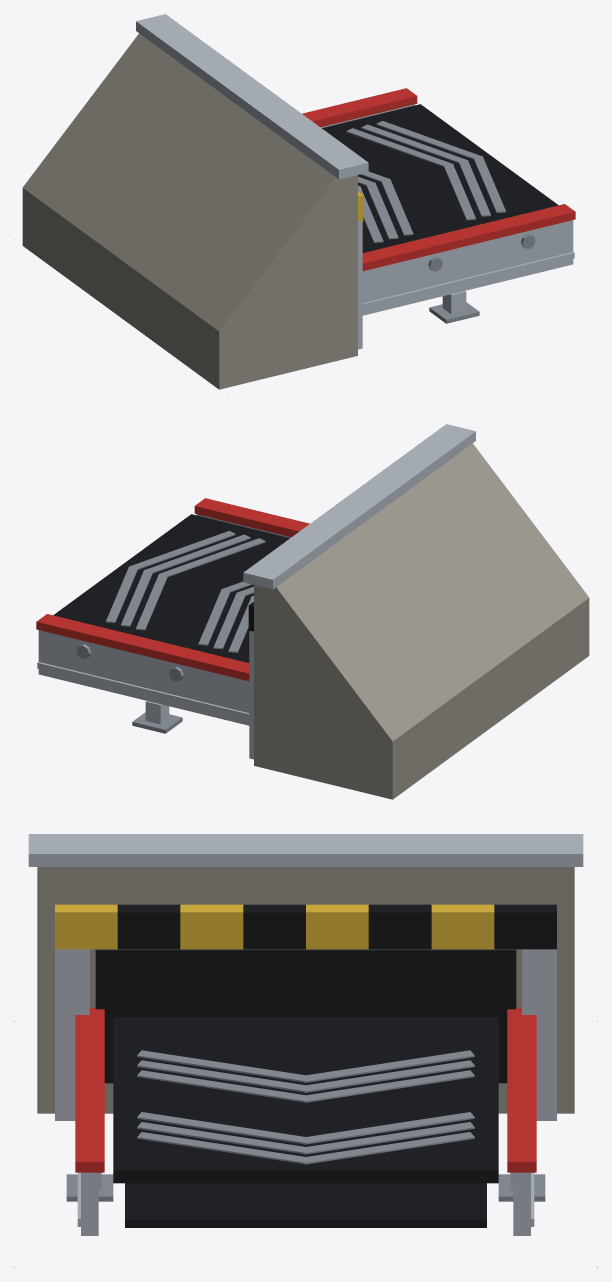
The model's file is convoyeur_tunnel_sortie_t3.glb.
3 renders of one model, top to bottom at view 1: azimuth 30°, elevation 25°; view 2: azimuth 150°, elevation 25°; view 3: azimuth 270°, elevation 25°, orthographic. The views are drawn at different scales.
Visible parts, largest first — view 1: bouche.012, pieces_gris_clair.016, pieces_noir.030, pieces_rive_t3.006, bande_acier.048, pieces_acier.054; view 2: bouche.012, pieces_gris_clair.016, pieces_noir.030, pieces_rive_t3.006, bande_acier.048, pieces_acier.054; view 3: pieces_noir.030, pieces_gris_clair.016, bouche.012, bande_acier.048, pieces_jaune.024, pieces_rive_t3.006, pieces_acier.054.
Part boxes in pixels (x1,y1,x2,y2): bouche.012: [22, 33, 357, 389]; pieces_gris_clair.016: [136, 14, 574, 349]; pieces_noir.030: [322, 104, 558, 252]; pieces_rive_t3.006: [302, 88, 575, 271]; bande_acier.048: [346, 121, 505, 242]; pieces_acier.054: [428, 234, 535, 323]; bouche.012: [254, 443, 589, 799]; pieces_gris_clair.016: [37, 424, 475, 759]; pieces_noir.030: [53, 514, 289, 662]; pieces_rive_t3.006: [36, 498, 309, 681]; bande_acier.048: [106, 531, 265, 652]; pieces_acier.054: [76, 644, 183, 733]; pieces_noir.030: [95, 904, 556, 1227]; pieces_gris_clair.016: [28, 834, 583, 1235]; bouche.012: [37, 867, 574, 1113]; bande_acier.048: [137, 1050, 474, 1164]; pieces_jaune.024: [55, 904, 494, 949]; pieces_rive_t3.006: [75, 1007, 536, 1172]; pieces_acier.054: [66, 1174, 545, 1201].
Bounding box in the file's own units: 1 × 0.5 × 1.
